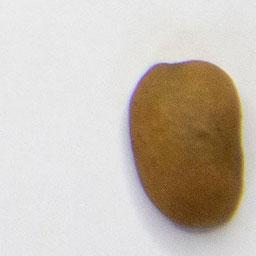defect: (125, 57, 247, 233)
